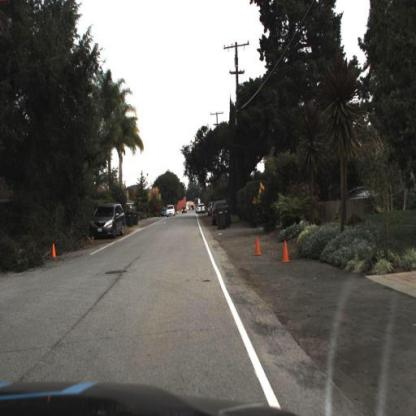car: (90, 201, 126, 243), (211, 197, 231, 228), (164, 204, 178, 221)
